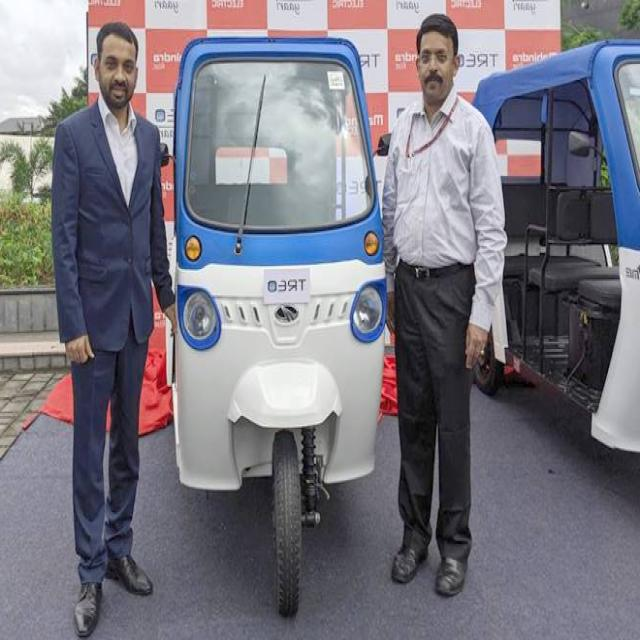autorickshaw: (171, 39, 386, 614), (474, 41, 640, 453)
